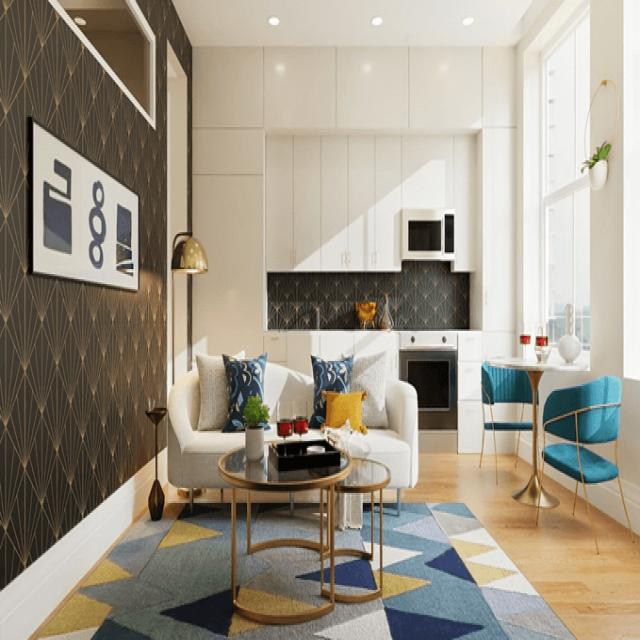modern chair: (539, 365, 639, 567), (478, 354, 534, 475)
modern desk: (215, 432, 352, 626)
modern sofa: (166, 341, 423, 513)
